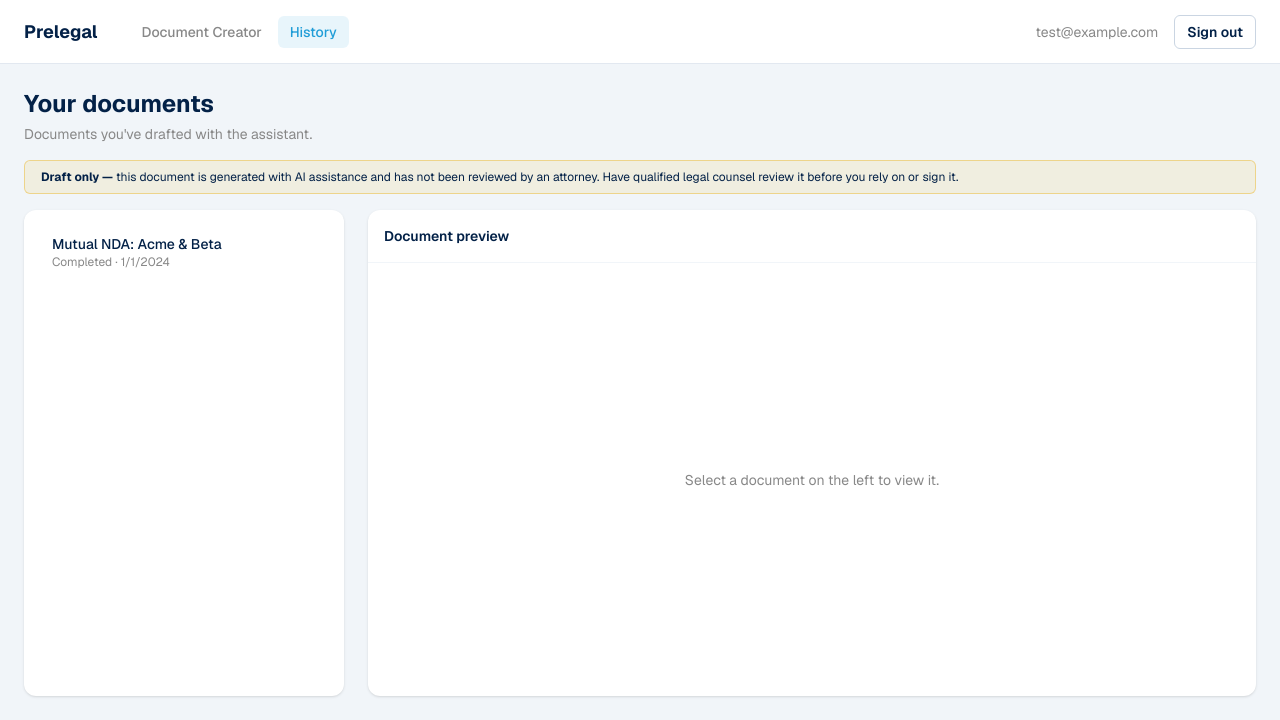
Test: HistoryPage › loads and displays a selected mutual NDA document
This screenshot has width=1280, height=720.
Click the text "Mutual NDA: Acme & Beta".
click(137, 244)  # box left=52, top=235, right=222, bottom=253
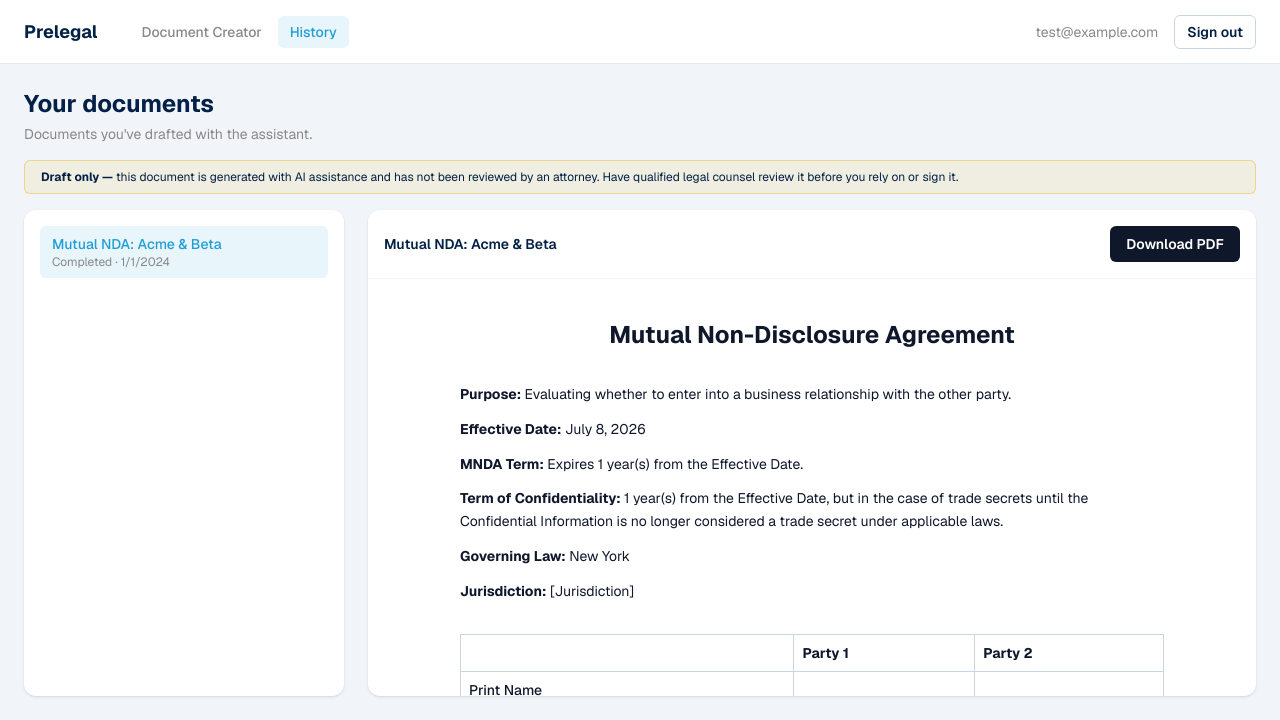
Expected: the heading "Mutual Non-Disclosure Agreement" is shown, left=609, top=319, right=1015, bottom=350
